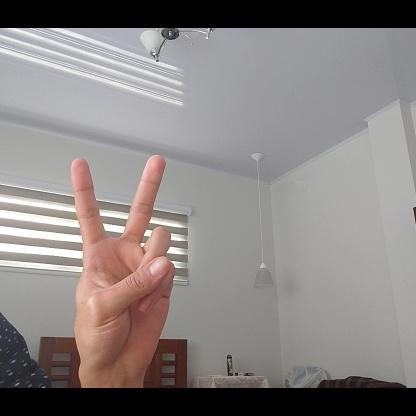V: (70, 152, 178, 381)
